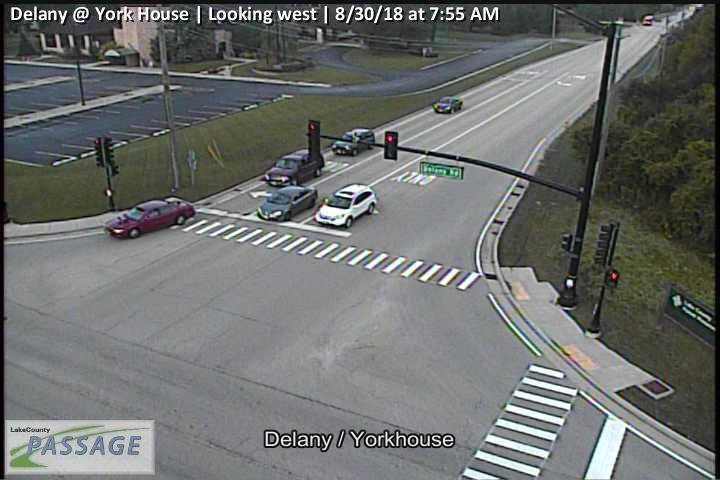SUV: (312, 184, 377, 227), (263, 148, 324, 187)
Sedan: (104, 196, 195, 238), (256, 185, 317, 223), (331, 128, 375, 156), (434, 95, 463, 113)
